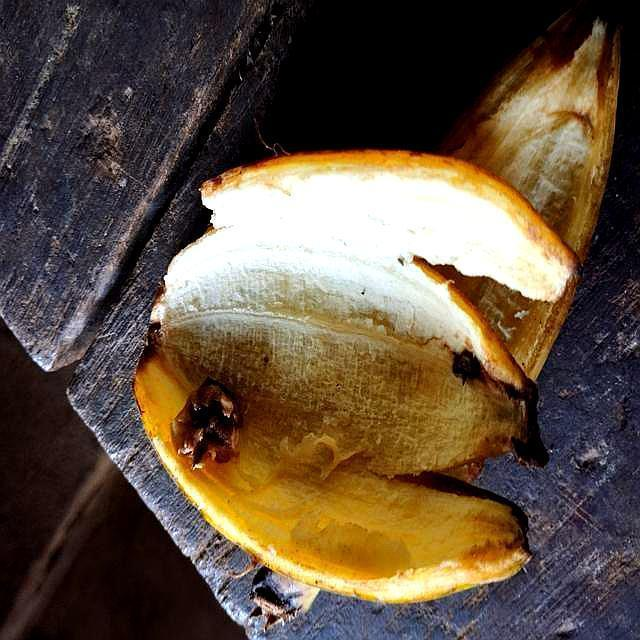Biodegradable: (145, 155, 577, 595)
